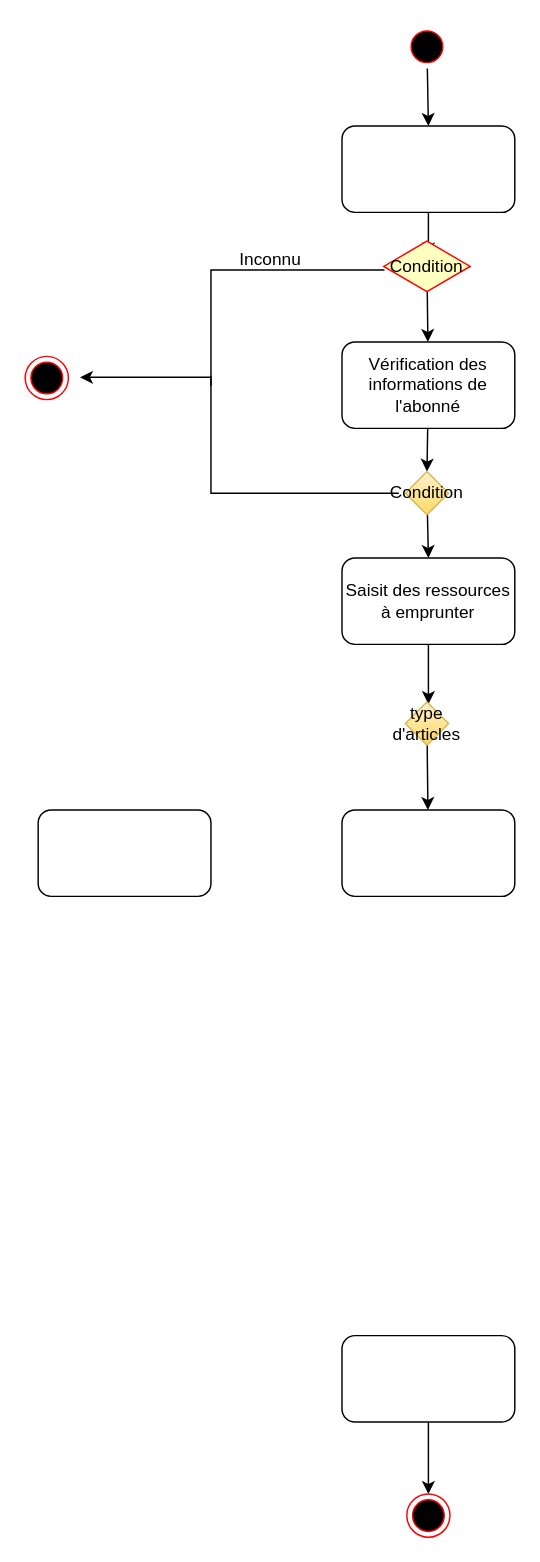
The diagram is 540 pixels wide and 1562 high, and some of its shapes have lost their labels. The shapes that lost their labels are listed below. From the top down, each one's centre as x and y in pixels, then its label:
point (428, 168): Saisit des informations de l'abonné
point (428, 852): Confirmer l'emprunt
